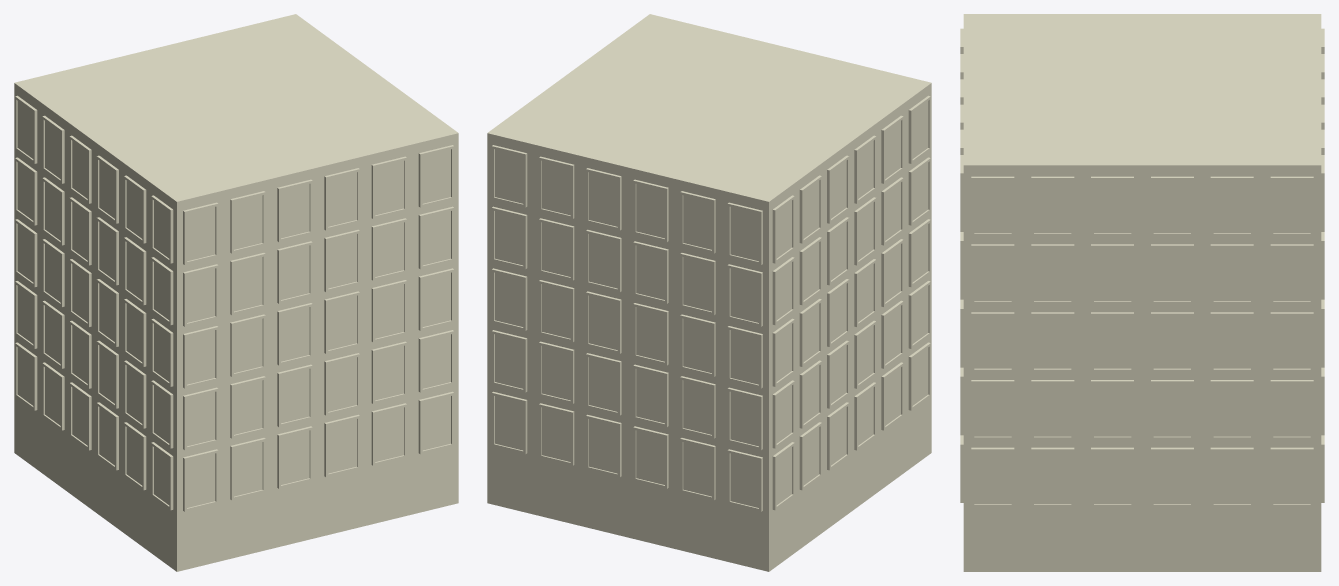
File: Building1.fbx
3 views of the same model, side by side, from view 1: azimuth 30°, elevation 25°; view 2: azimuth 150°, elevation 25°; view 3: azimuth 270°, elevation 25° (orthographic). The views are drawn at different scales.
Parts seen in each view (by area): view 1: Cube, Cube.001; view 2: Cube, Cube.001; view 3: Cube, Cube.001.
Part boxes in pixels (bbox=[...]): Cube: bbox=[14, 14, 458, 571]; Cube.001: bbox=[15, 95, 454, 511]; Cube: bbox=[487, 14, 931, 571]; Cube.001: bbox=[491, 95, 930, 511]; Cube: bbox=[963, 14, 1321, 571]; Cube.001: bbox=[960, 28, 1324, 507].
Bounding box in the file's own units: 2436 × 3000 × 2436.
